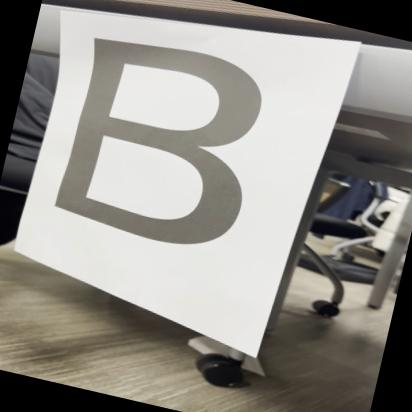seat: (36, 27, 284, 267)
